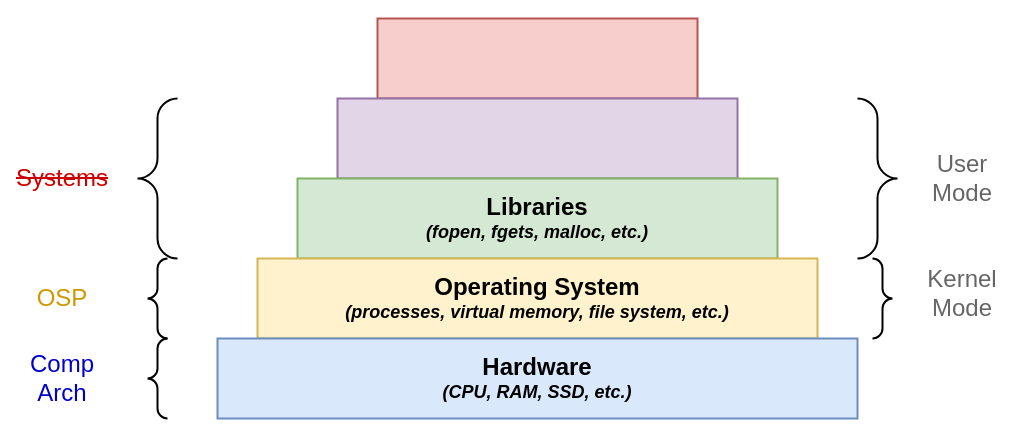
Image size: 1024x436. Some labels were removed from this diagram. Here are the shapes that lost their labels. From the top down, the box of each, then its label:
(376, 17, 698, 99): Users
(336, 97, 738, 179): Applications (shell, editors, filters, etc.)
